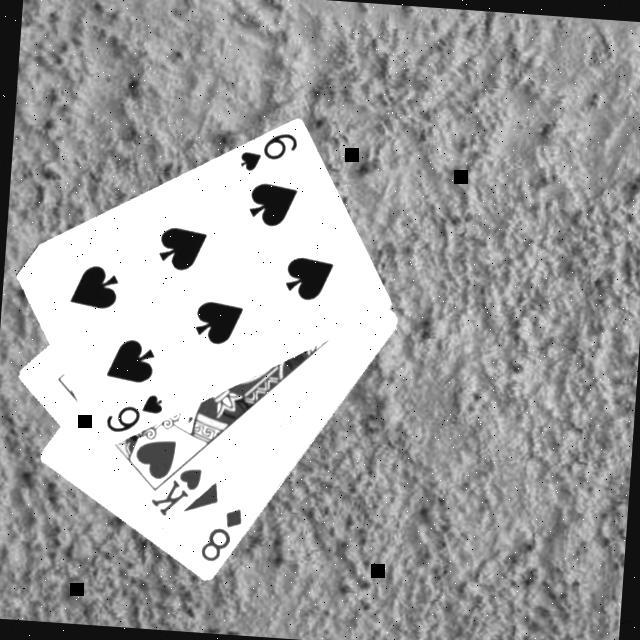6S: (233, 128, 300, 180), (99, 390, 165, 441)
8D: (194, 504, 244, 570)
KH: (144, 463, 204, 524)
